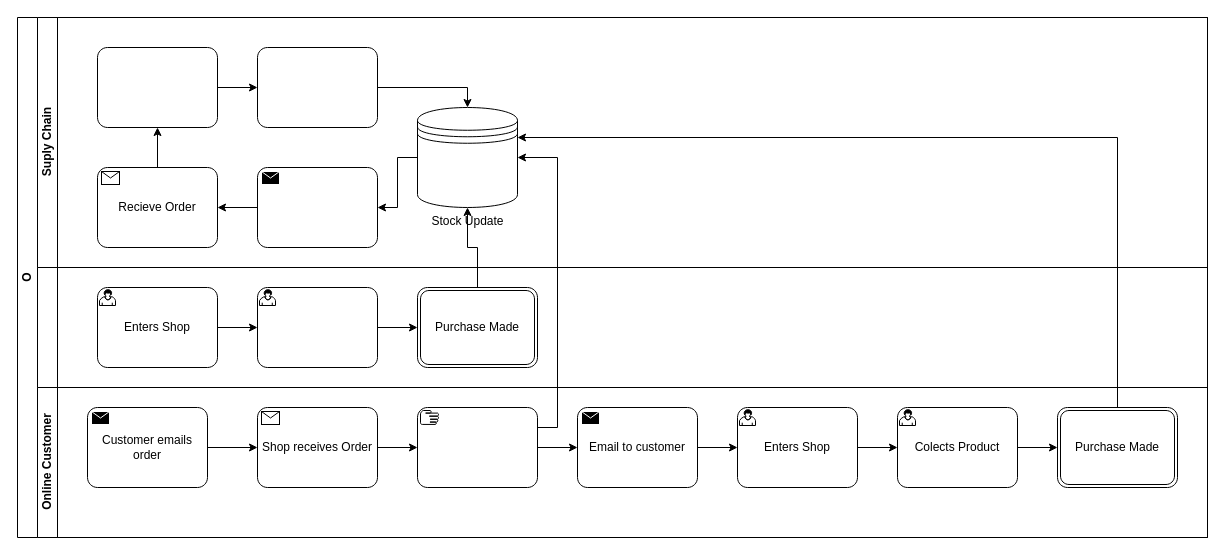
The diagram is 1225 pixels wide and 555 high, and some of its shapes have lost their labels. Here are the shapes that lost their labels. From the top down, the box of each, then its label:
(96, 46, 218, 128): Supplies Shipped
(256, 46, 378, 128): Supplies Delivered
(256, 166, 378, 248): Send order
(256, 286, 378, 368): Selects Product
(36, 266, 1208, 388): Physical Customer
(416, 406, 538, 488): Order collected by shop staff
